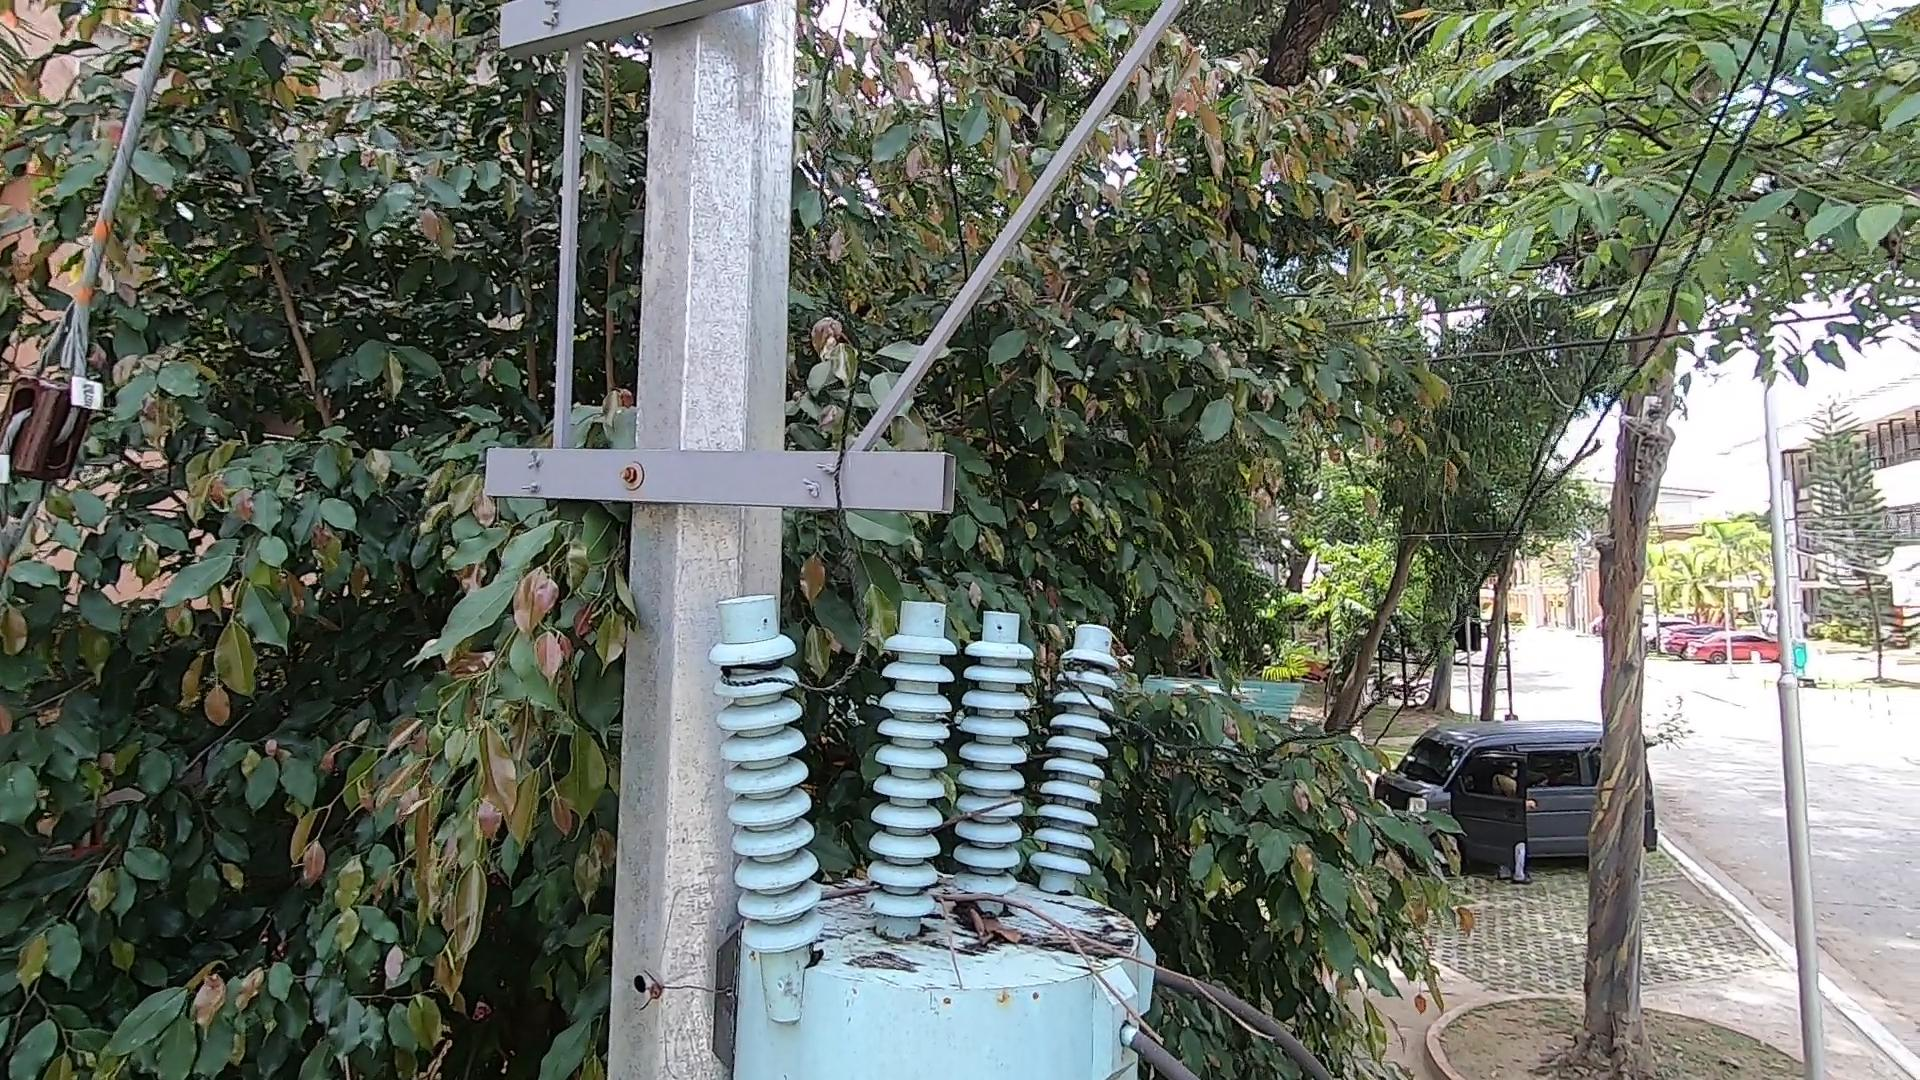leaf: (942, 880, 1031, 977)
tree branch: (814, 853, 1290, 1065)
